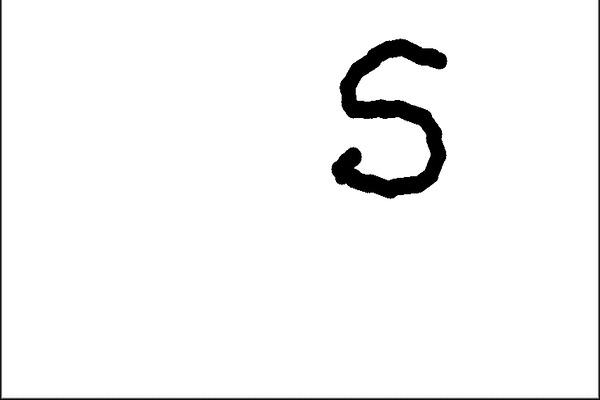S: (320, 38, 453, 202)
